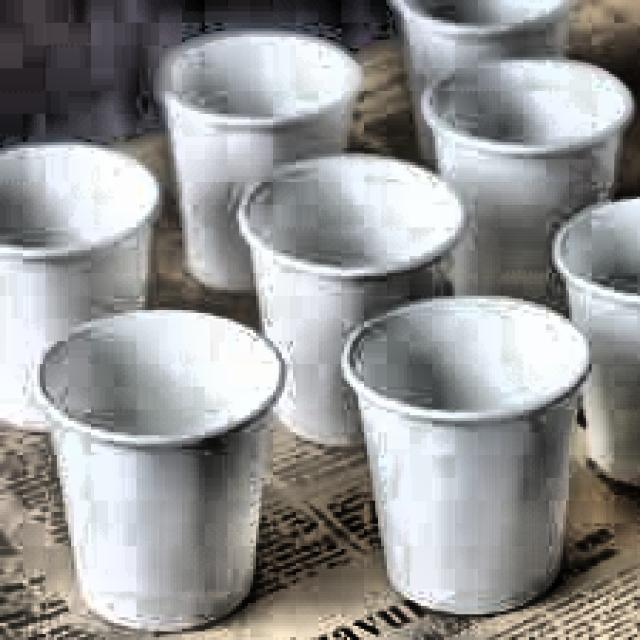Cup: (27, 306, 287, 638), (344, 292, 589, 620), (409, 56, 639, 341), (235, 159, 458, 446), (152, 13, 368, 294), (0, 122, 168, 438)
